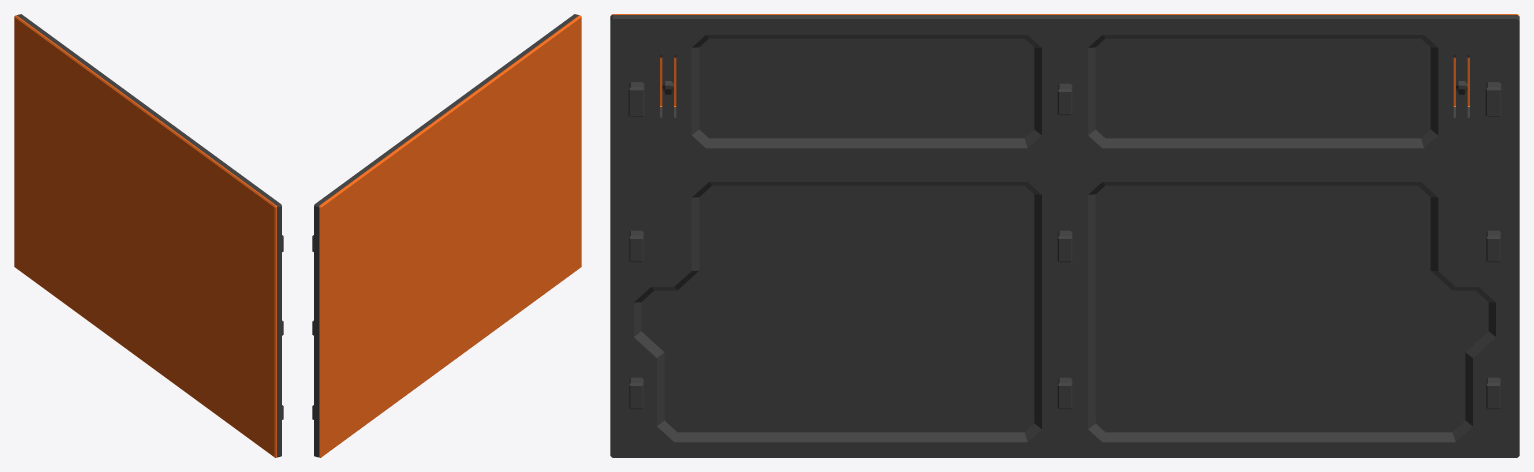
File: SideCover_165-15H.lib.glb
The picture shows the model from 3 angles, left to right: view 1: azimuth 30°, elevation 25°; view 2: azimuth 150°, elevation 25°; view 3: azimuth 270°, elevation 25°; orthographic projection. The views are drawn at different scales.
Visible parts, largest first — view 1: SideCover_165-15H; view 2: SideCover_165-15H; view 3: SideCover_165-15H.
Boxes of the visible parts, <box> form: SideCover_165-15H: <box>14,14,283,457</box>; SideCover_165-15H: <box>312,14,581,457</box>; SideCover_165-15H: <box>610,14,1519,457</box>.
Bounding box in the file's own units: 5.04 × 83.61 × 157.
